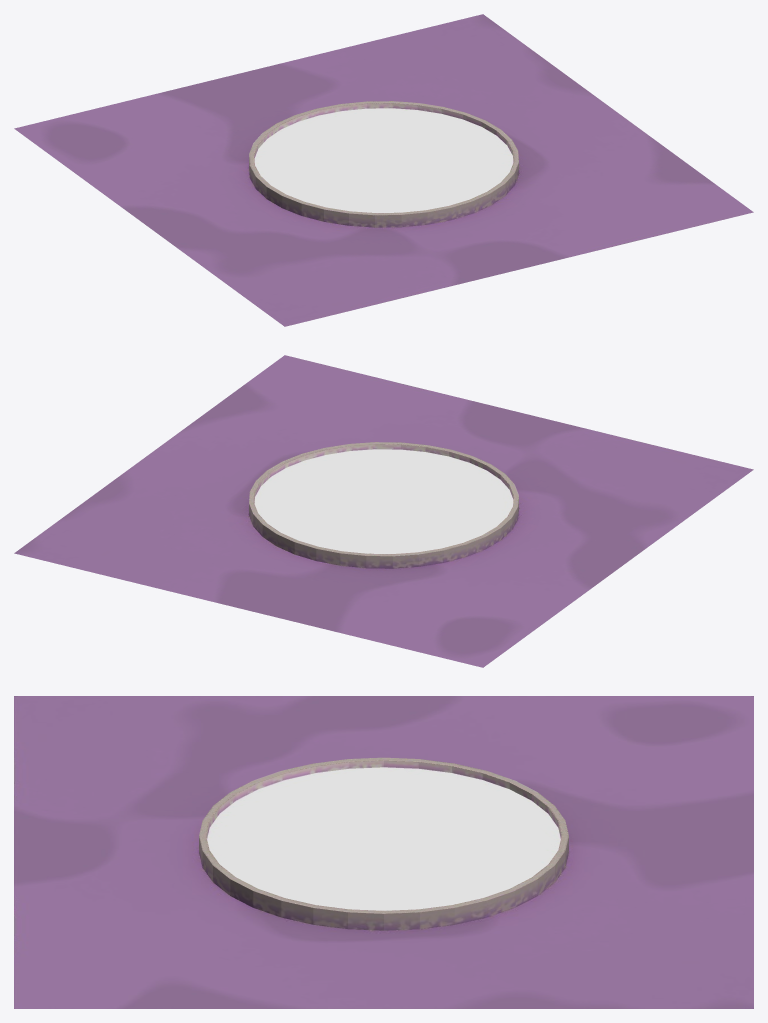
The model's file is nakagin_wall.glb.
The picture shows the model from 3 angles, top to bottom: view 1: azimuth 30°, elevation 25°; view 2: azimuth 150°, elevation 25°; view 3: azimuth 270°, elevation 25°; orthographic projection. The views are drawn at different scales.
Visible parts, largest first — view 1: nakagin_wall.001; view 2: nakagin_wall.001; view 3: nakagin_wall.001.
Part boxes in pixels (box(x1,y1,x2,y2)): nakagin_wall.001: box(14, 14, 753, 326); nakagin_wall.001: box(14, 355, 753, 667); nakagin_wall.001: box(14, 696, 753, 1008).
Size of the model in its own units: 1 by 0.025 by 1.
1 material, 1 textured.
